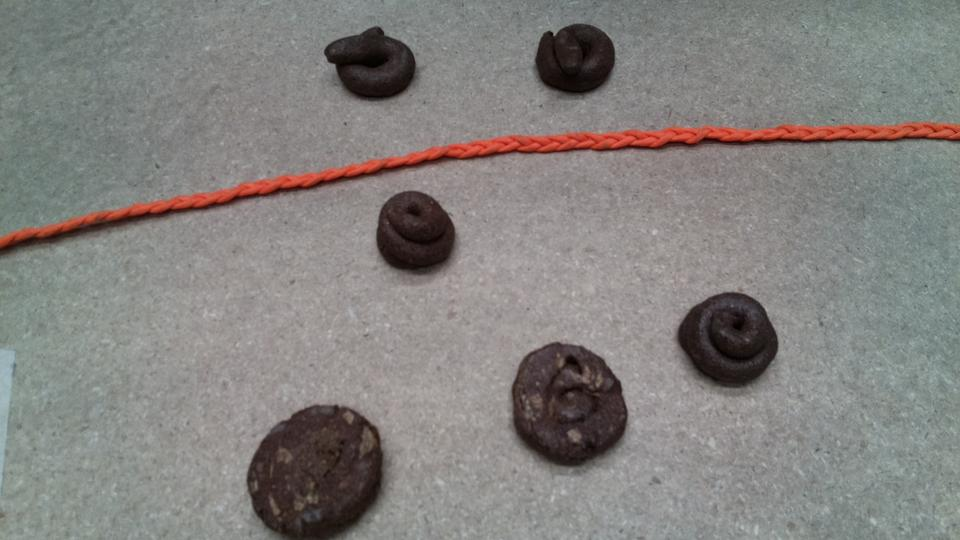poop: (235, 400, 396, 533), (512, 344, 635, 470), (674, 289, 789, 400), (323, 22, 423, 110), (374, 188, 460, 279), (532, 21, 619, 97)
rope: (3, 183, 278, 270), (229, 149, 522, 204), (433, 125, 960, 152)
